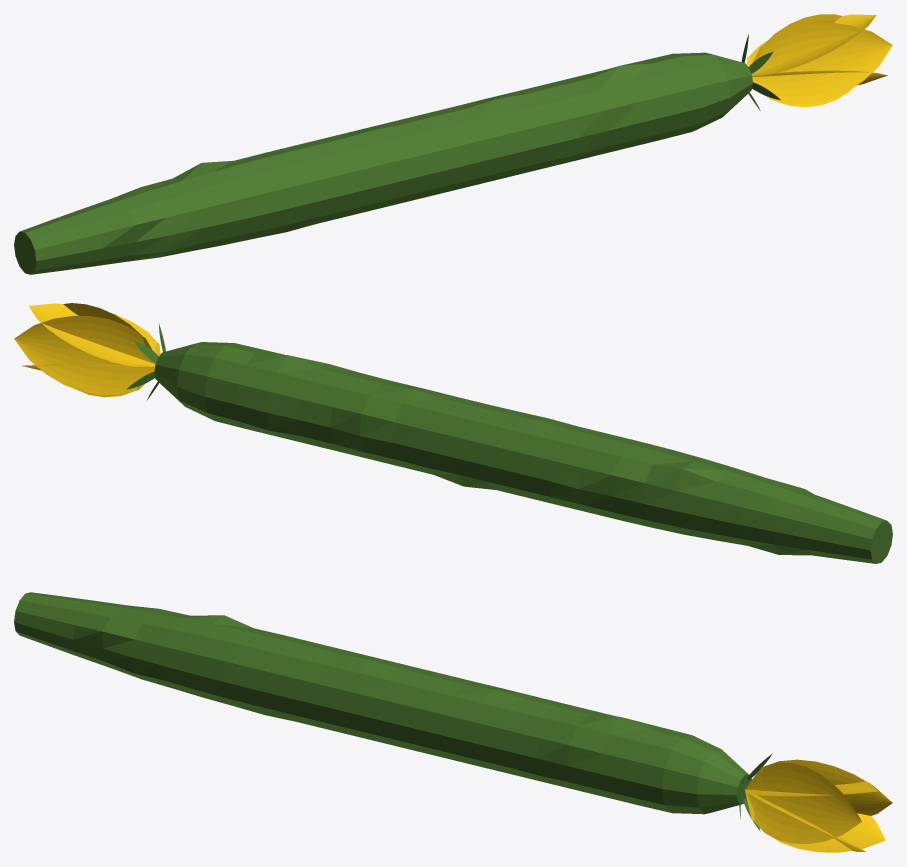
The model's file is flower_closed_02.obj.
The picture shows the model from 3 angles, top to bottom: view 1: azimuth 30°, elevation 25°; view 2: azimuth 150°, elevation 25°; view 3: azimuth 330°, elevation 25°; orthographic projection.
Bounding box in the file's own units: 0.803 × 0.0729 × 0.073.
1 material, 1 textured.
